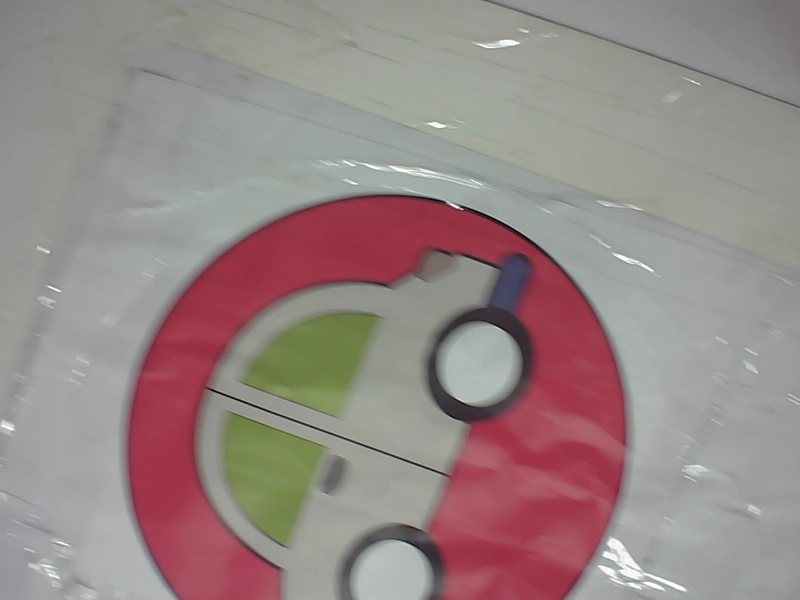areaC: (116, 188, 645, 598)
